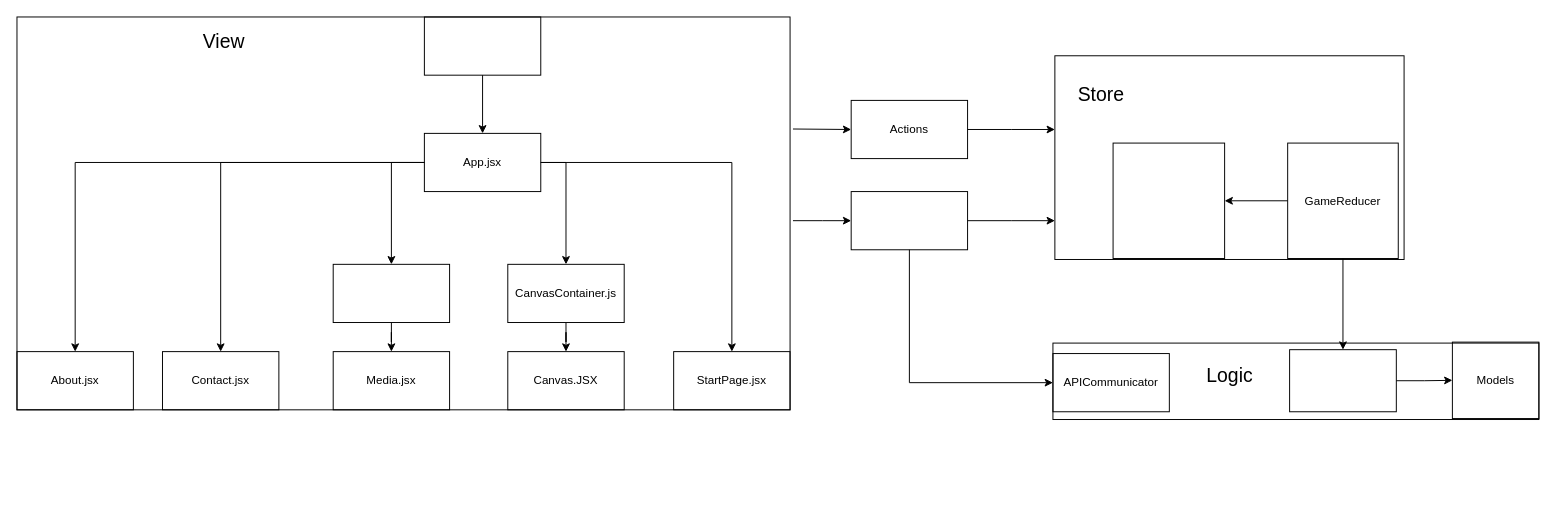
The diagram is 1556 pixels wide and 529 high, and some of its shapes have lost their labels. Each missing label, with the box of its shape:
AsyncActions: (850, 191, 968, 250)
GameEngine: (1289, 349, 1396, 412)
Index.jsx: (423, 16, 541, 75)
MediaContainer.js: (332, 263, 450, 323)
State: (1112, 142, 1225, 259)
